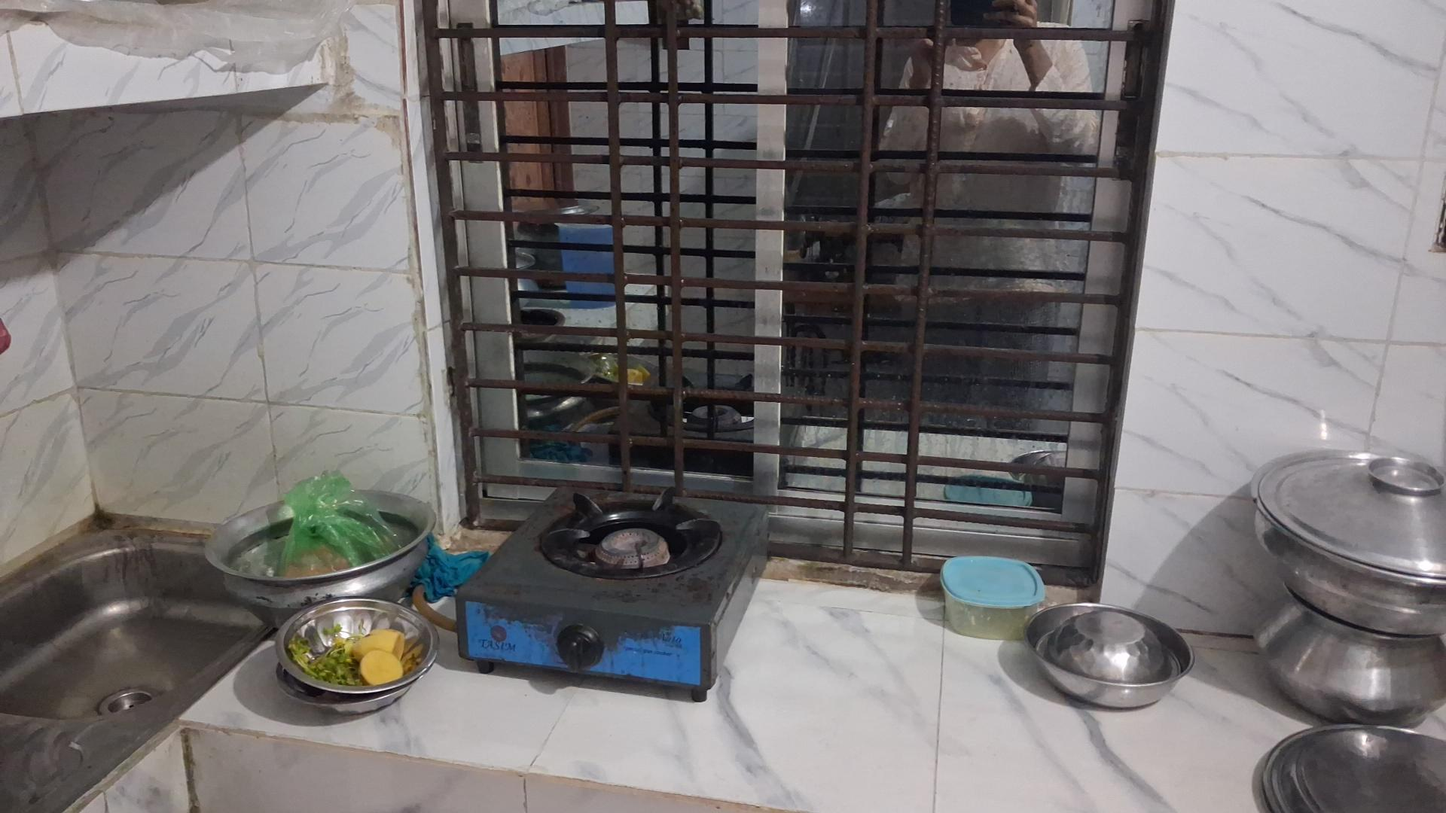Bowl: (205, 484, 434, 615), (1024, 602, 1194, 710), (275, 597, 437, 707)
Food: (298, 611, 401, 687)
Jar: (940, 555, 1047, 640)
Pot: (1252, 441, 1446, 629), (1259, 598, 1446, 730)
Window: (420, 3, 1126, 583)
